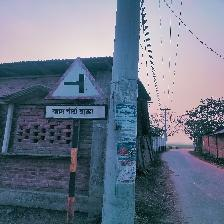Side-road-left: (43, 58, 107, 121)
